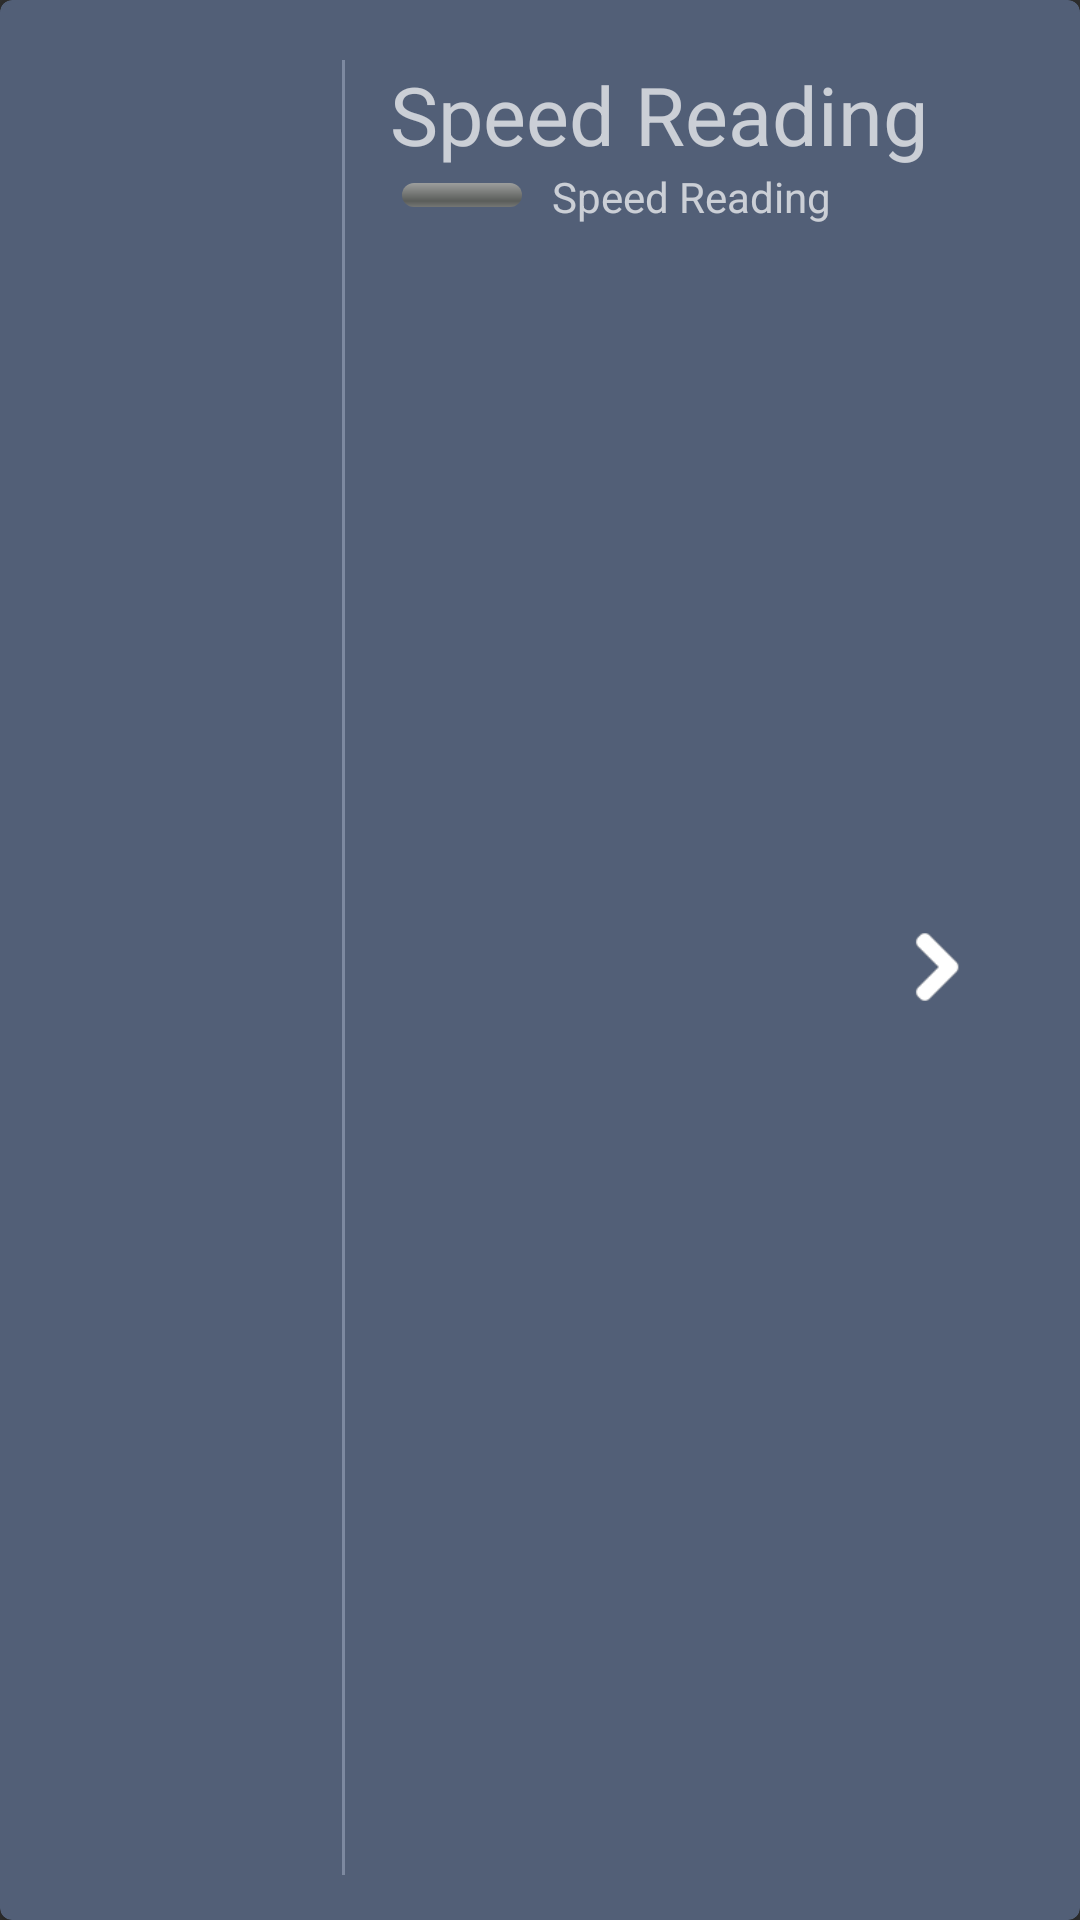

Named icons in this screenshot (1080*1920) and their centers, [x,y]:
right arrow: [937,967]
